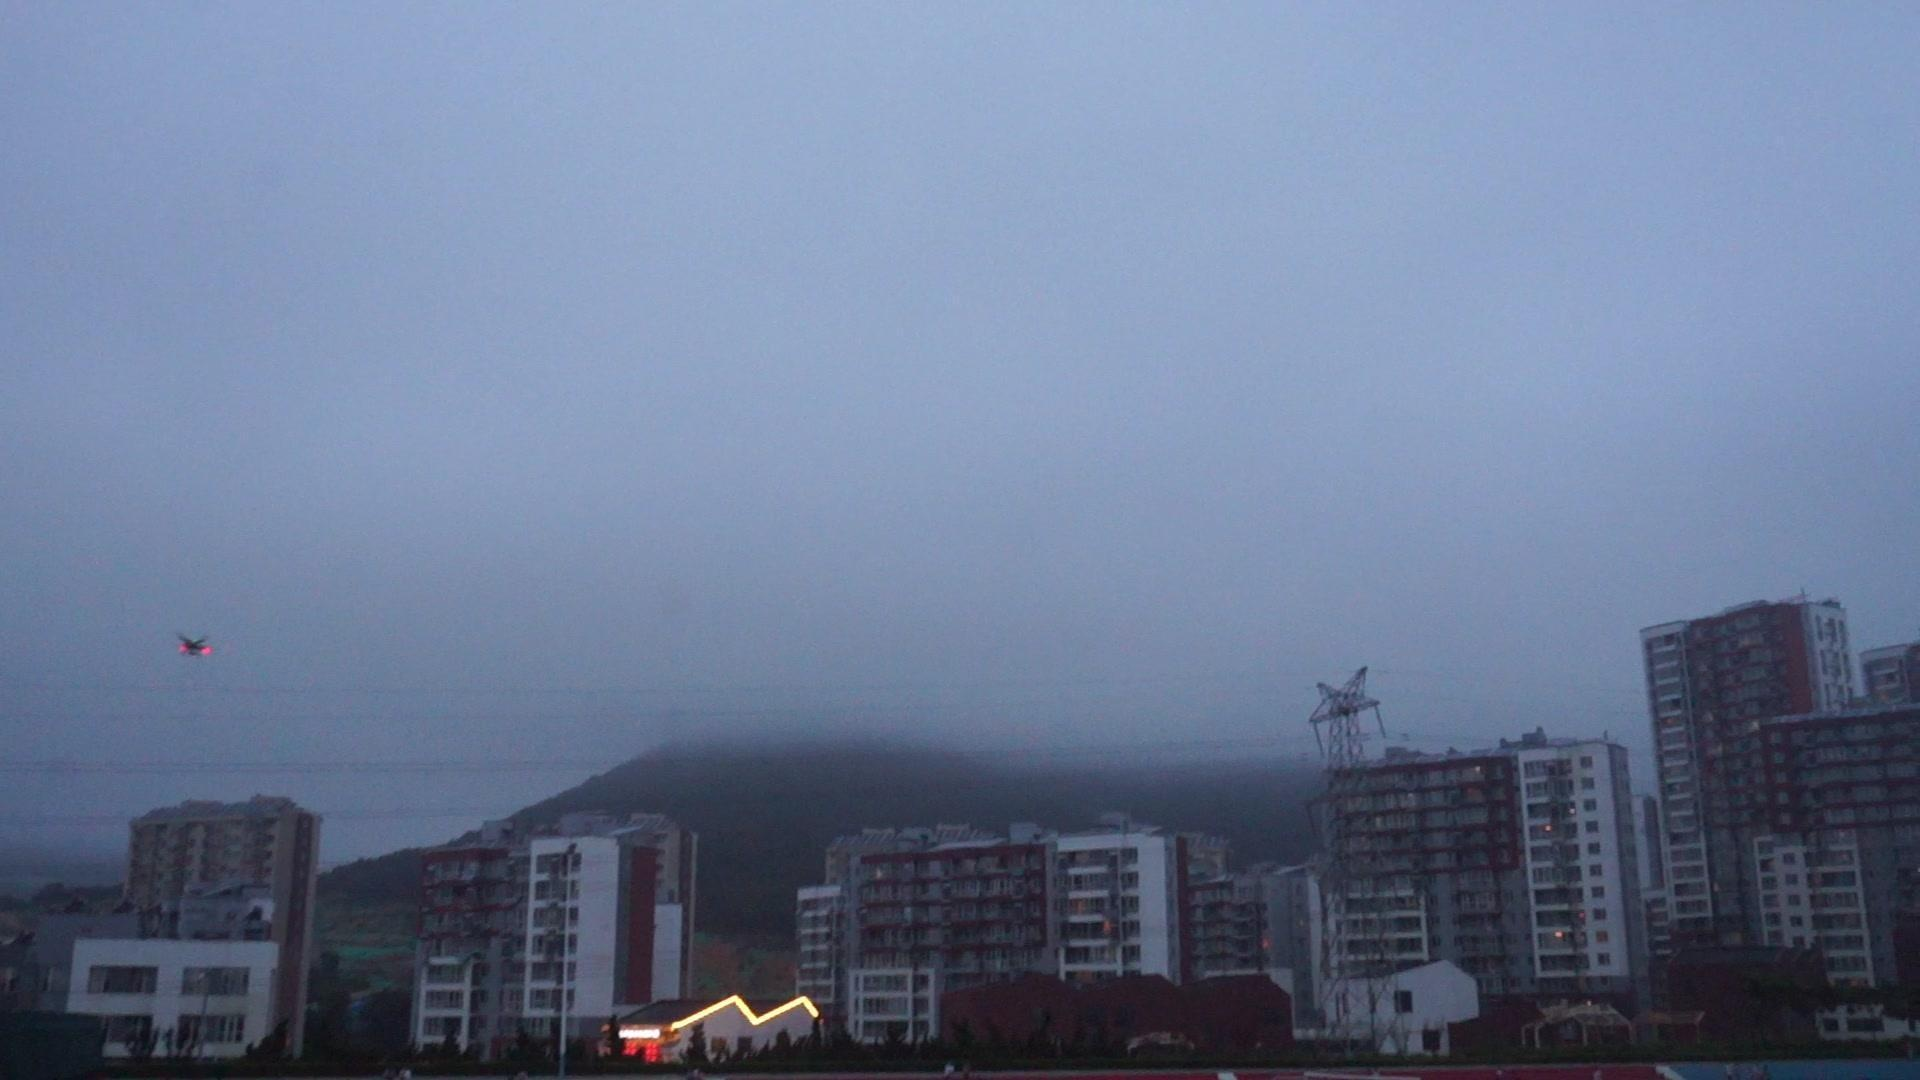UAV: (178, 634, 215, 657)
